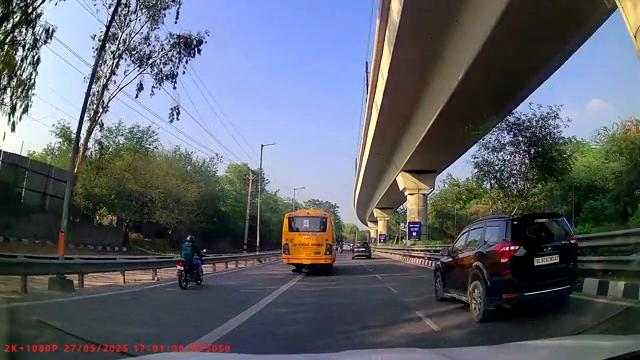motorcycle_with_helmet: (174, 233, 205, 291)
